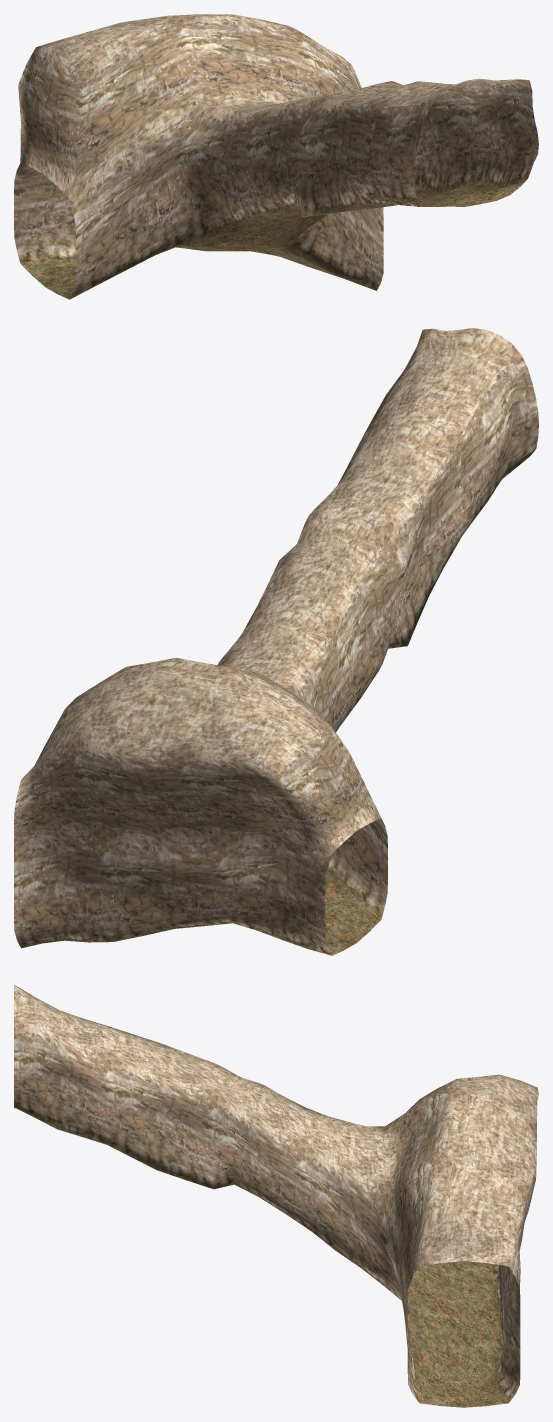
File: thm_all_cave_s03_mirror_r1_mesh_r1.fbx
3 renders of one model, top to bottom at view 1: azimuth 30°, elevation 25°; view 2: azimuth 150°, elevation 25°; view 3: azimuth 270°, elevation 25°, orthographic. The views are drawn at different scales.
Parts seen in each view (by area): view 1: mesh_node; view 2: mesh_node; view 3: mesh_node.
Boxes of the visible parts, <box> form: mesh_node: <box>14,14,538,299</box>; mesh_node: <box>14,328,538,955</box>; mesh_node: <box>14,984,538,1407</box>.
Bounding box in the file's own units: 22.7 × 31.04 × 41.47.
